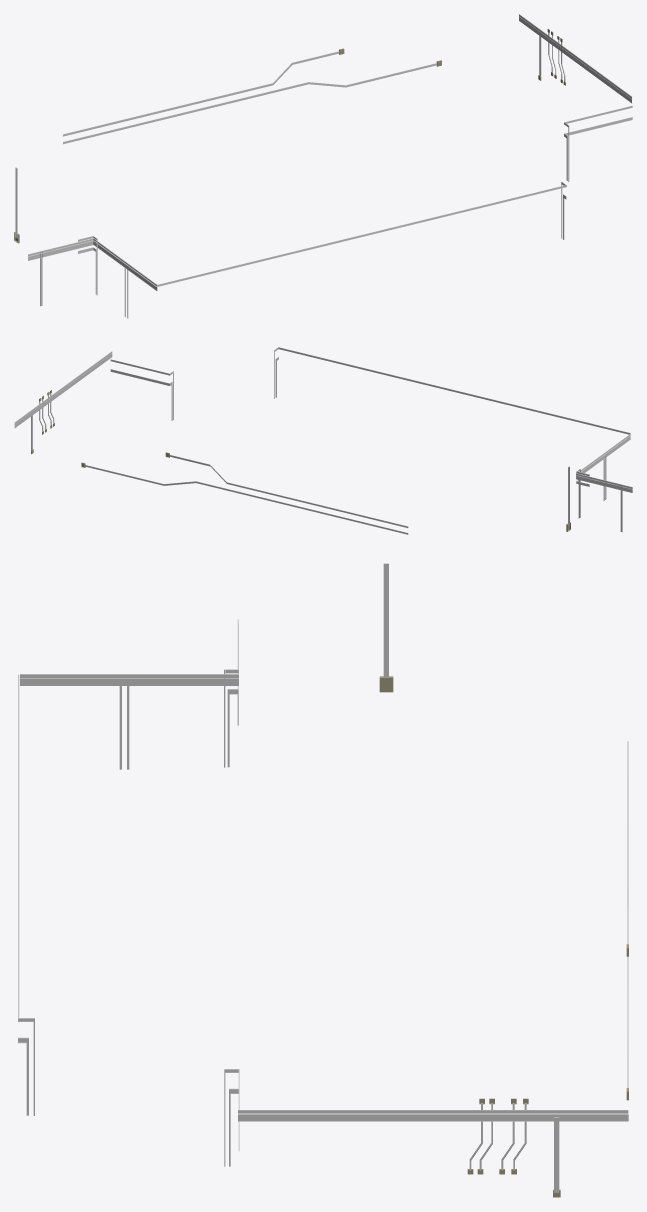
File: shiyanlou_A02_qiangmian.fbx
3 views of the same model, one above another, from view 1: azimuth 30°, elevation 25°; view 2: azimuth 150°, elevation 25°; view 3: azimuth 270°, elevation 25° (orthographic). The views are drawn at different scales.
Visible parts, largest first — view 1: shiyanlou_A02_qiangmian; view 2: shiyanlou_A02_qiangmian; view 3: shiyanlou_A02_qiangmian.
Boxes of the visible parts, x1,y1,x2,y2 form: shiyanlou_A02_qiangmian: (14, 14, 632, 318); shiyanlou_A02_qiangmian: (14, 347, 632, 534); shiyanlou_A02_qiangmian: (18, 563, 628, 1197).
Size of the model in its own units: 2980 by 490 by 1512.
